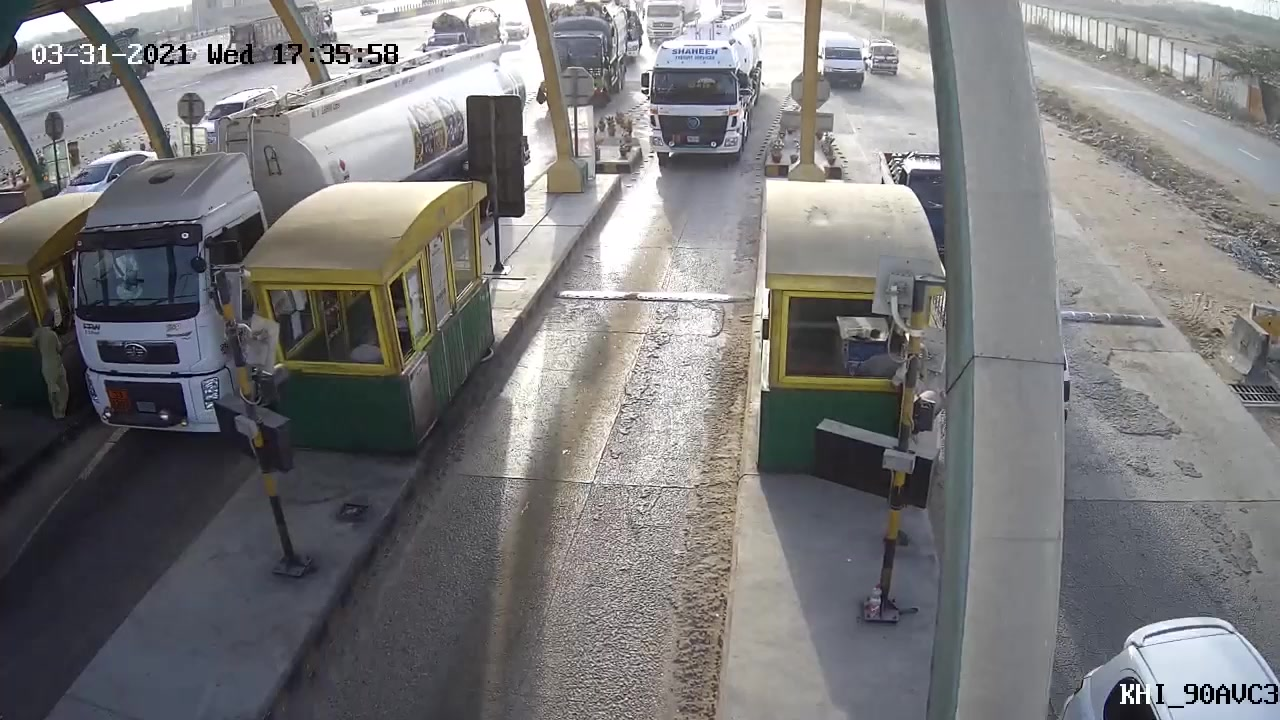F5: (646, 31, 750, 159)
